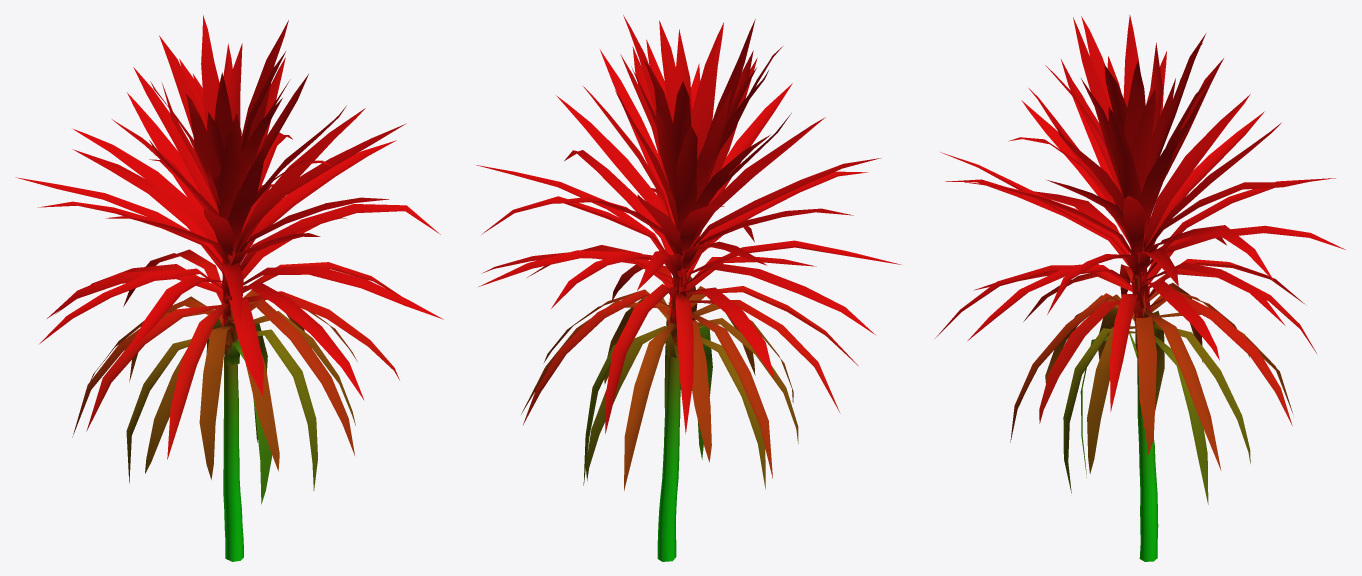
File: SM_Palm02_LOD2.fbx
The picture shows the model from 3 angles, left to right: view 1: azimuth 30°, elevation 25°; view 2: azimuth 150°, elevation 25°; view 3: azimuth 270°, elevation 25°; orthographic projection.
Visible parts, largest first — view 1: _gnvp_Var2_LOD4; view 2: _gnvp_Var2_LOD4; view 3: _gnvp_Var2_LOD4.
Boxes of the visible parts, box(x1,y1,x2,y2) form: _gnvp_Var2_LOD4: box(15, 15, 443, 561); _gnvp_Var2_LOD4: box(476, 15, 901, 561); _gnvp_Var2_LOD4: box(935, 15, 1345, 561).
Size of the model in its own units: 122 by 162 by 116.
